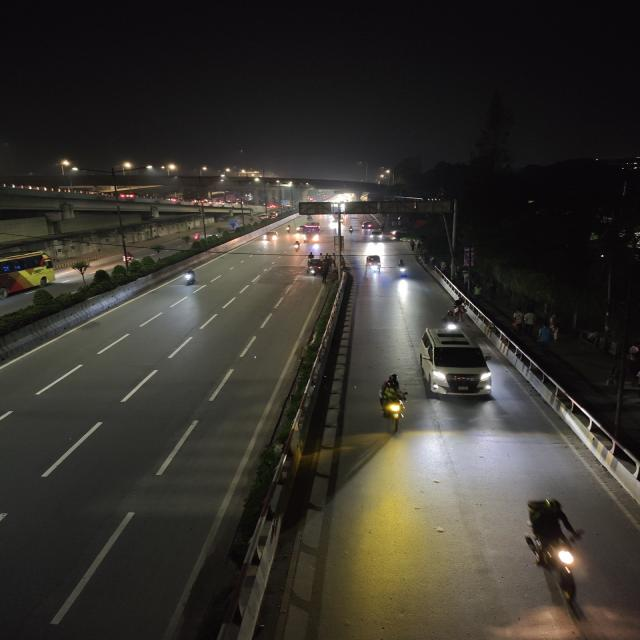bicycle: (451, 298, 472, 320)
bus: (0, 252, 55, 302), (297, 224, 322, 242)
car: (414, 326, 496, 404), (367, 232, 385, 242), (263, 231, 281, 241)
cng: (360, 254, 382, 276), (303, 255, 324, 277)
motorcycle: (519, 493, 601, 621), (373, 369, 411, 436), (441, 305, 468, 332), (177, 266, 201, 288), (394, 258, 414, 282), (292, 239, 303, 253), (283, 223, 294, 235), (348, 225, 358, 235)
pedestrian: (408, 240, 416, 252)
